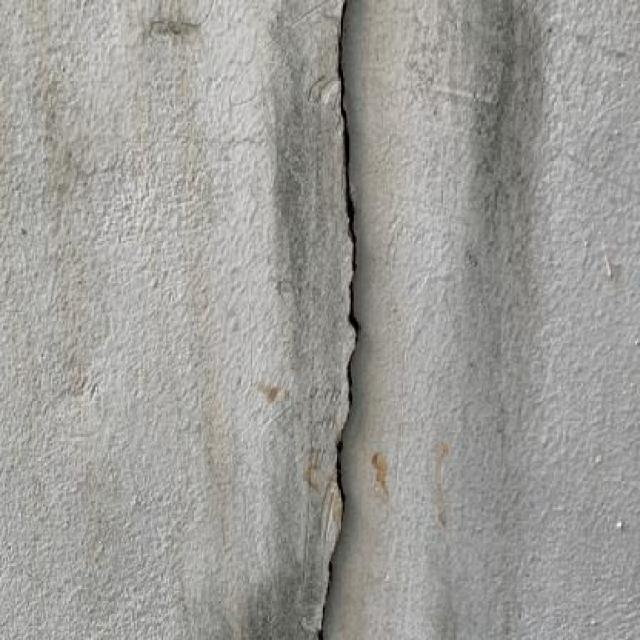GRIETA: (318, 0, 360, 639)
